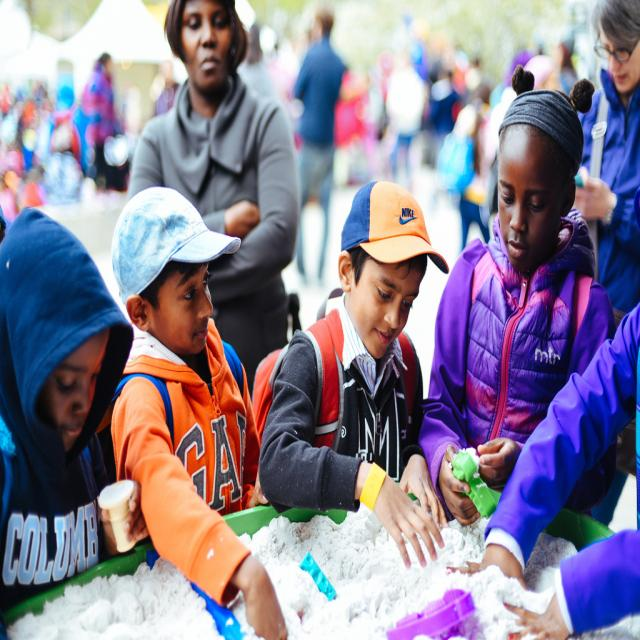Hat: (109, 183, 239, 309), (340, 178, 448, 276)
